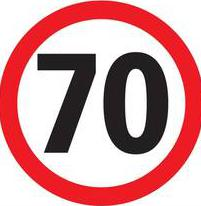Speed Limit -70-: (0, 1, 200, 205)
